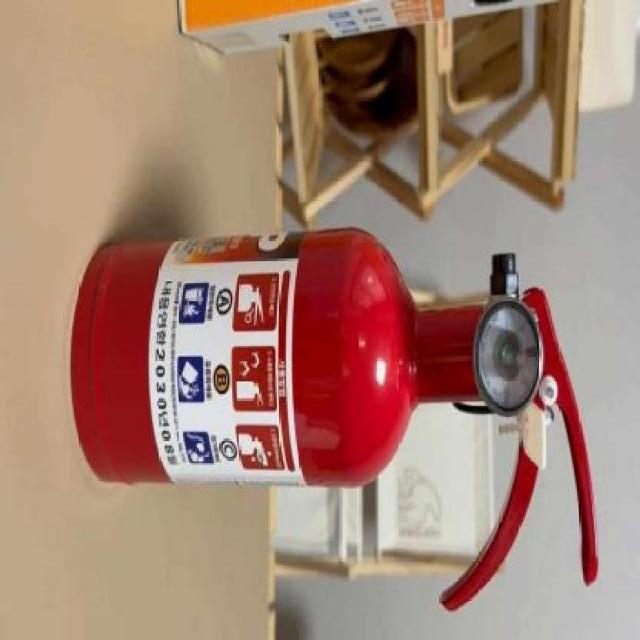fire extinguisher: (70, 226, 599, 614)
